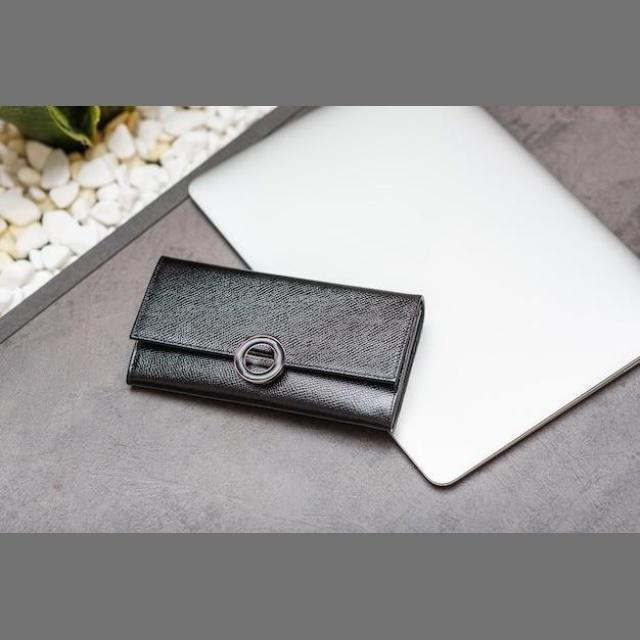Wallet: (113, 250, 451, 434)
